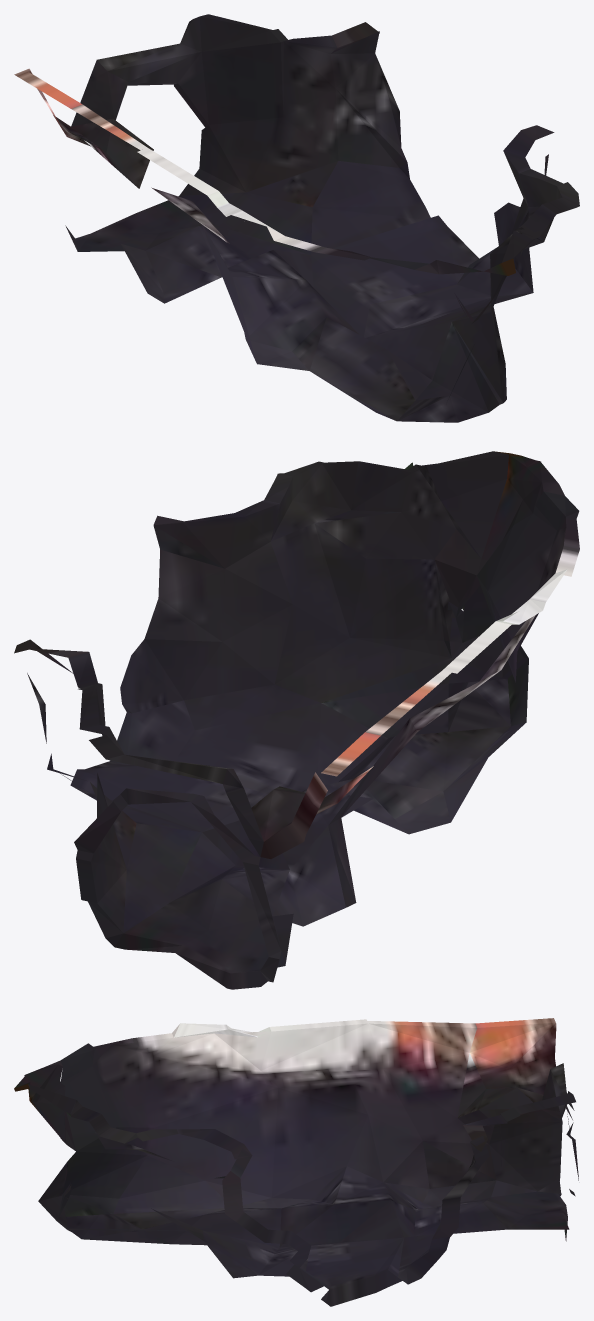
3 renders of one model, top to bottom at view 1: azimuth 30°, elevation 25°; view 2: azimuth 150°, elevation 25°; view 3: azimuth 270°, elevation 25°, orthographic. The views are drawn at different scales.
Parts seen in each view (by area): view 1: Mesh_0; view 2: Mesh_0; view 3: Mesh_0.
Boxes of the visible parts, <box> form: Mesh_0: <box>14,14,579,422</box>; Mesh_0: <box>14,451,579,989</box>; Mesh_0: <box>14,1018,578,1306</box>.
Bounding box in the file's own units: 12.64 × 7.32 × 21.54.
1 material, 1 textured.
